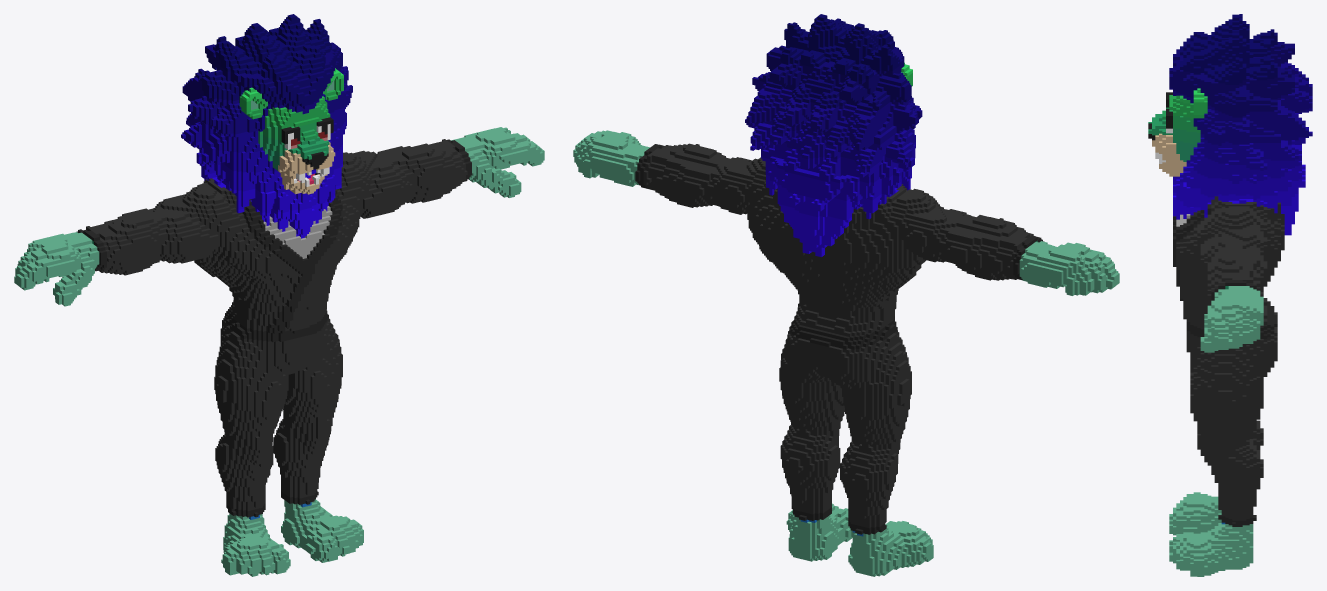
3 views of the same model, side by side, from view 1: azimuth 30°, elevation 25°; view 2: azimuth 150°, elevation 25°; view 3: azimuth 270°, elevation 25° (orthographic). The views are drawn at different scales.
Visible parts, largest first — view 1: open; view 2: open; view 3: open.
Boxes of the visible parts, x1=… form: open: x1=14, y1=14, x2=544, y2=576; open: x1=573, y1=14, x2=1119, y2=576; open: x1=1148, y1=14, x2=1312, y2=576.
Bounding box in the file's own units: 17.2 × 16.5 × 4.7.
Materials: 5 (5 with a texture image).
